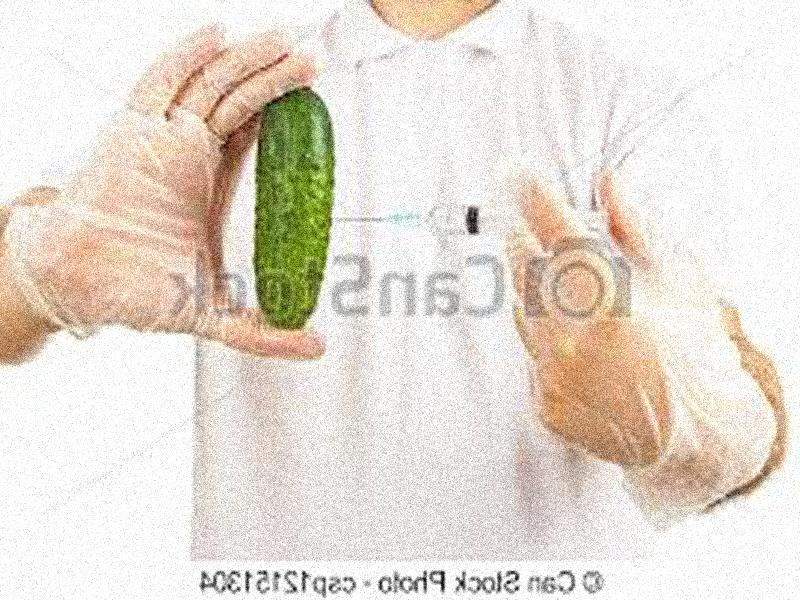Cucumber: (251, 80, 331, 327)
